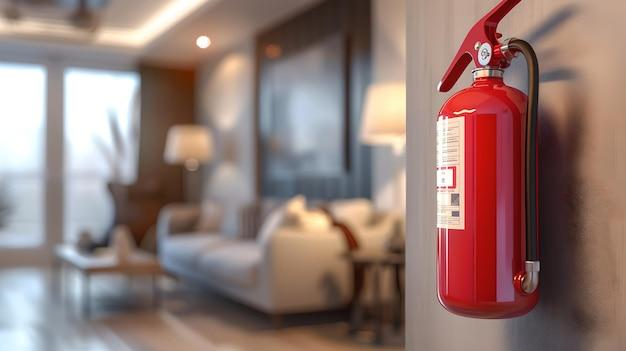wall-mounted: (420, 8, 569, 317)
